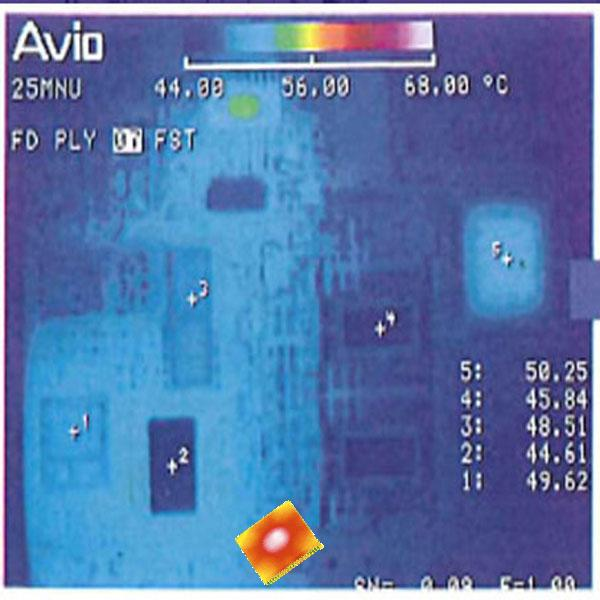componente_T: (233, 497, 326, 586), (286, 23, 356, 53)
